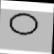no answer: (7, 11, 42, 37)
